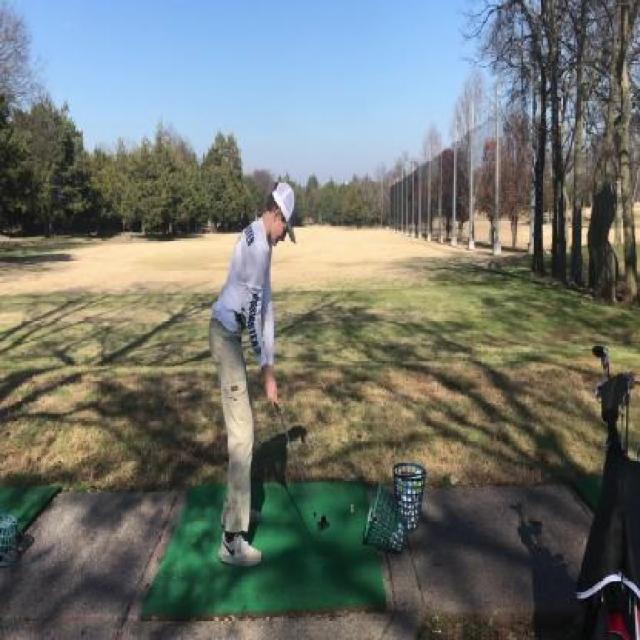club head: (314, 512, 331, 532)
